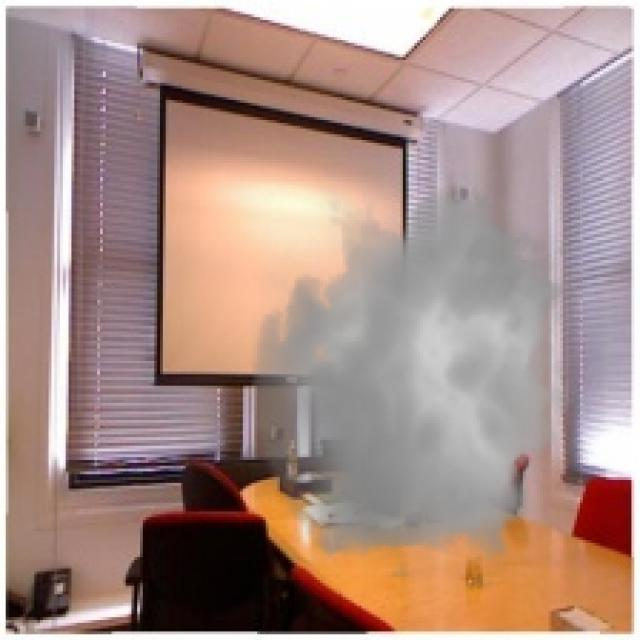smoke: (240, 172, 583, 577)
